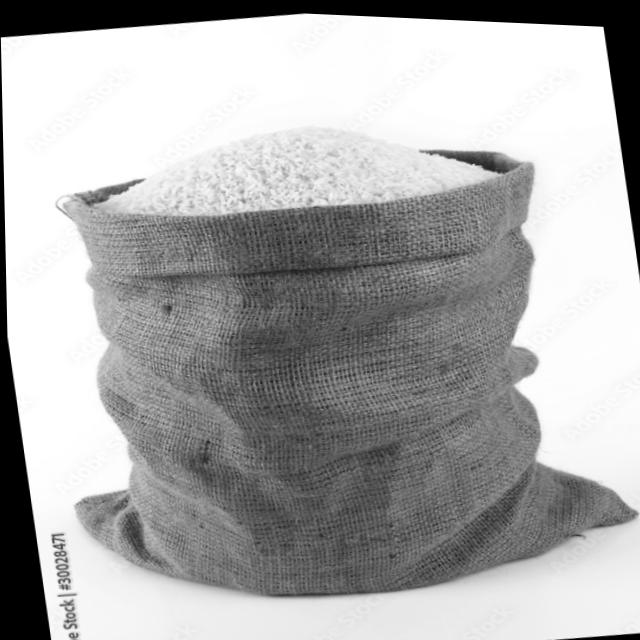sack: (18, 80, 640, 633)
